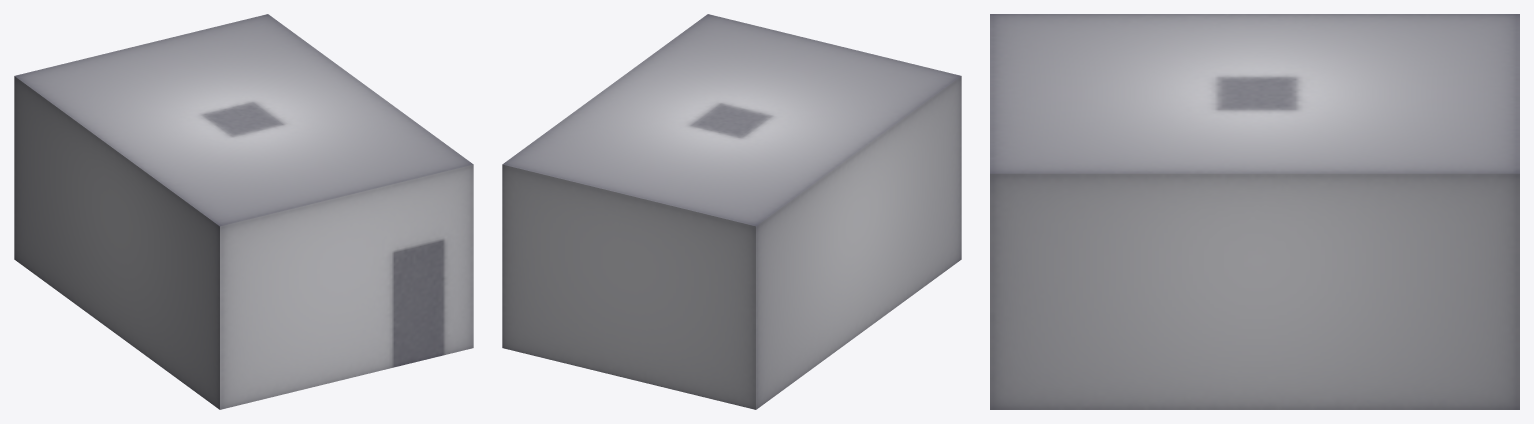
File: test_room.obj
3 renders of one model, left to right at view 1: azimuth 30°, elevation 25°; view 2: azimuth 150°, elevation 25°; view 3: azimuth 270°, elevation 25°, orthographic. The views are drawn at different scales.
Visible parts, largest first — view 1: Room_Cube; view 2: Room_Cube; view 3: Room_Cube.
Part boxes in pixels (bbox=[...]): Room_Cube: bbox=[14, 14, 473, 409]; Room_Cube: bbox=[502, 14, 961, 409]; Room_Cube: bbox=[990, 14, 1519, 409].
Size of the model in its own units: 5.09 by 3.51 by 7.14.
1 material, 1 textured.
